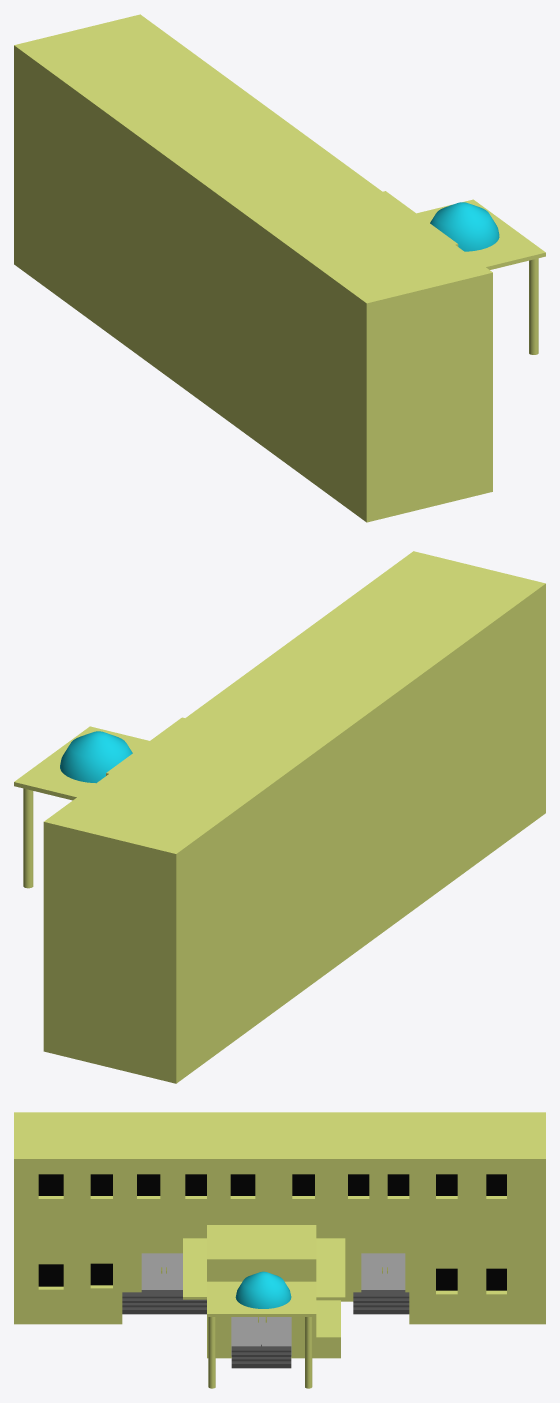
The model's file is college.glb.
3 views of the same model, one above another, from view 1: azimuth 30°, elevation 25°; view 2: azimuth 150°, elevation 25°; view 3: azimuth 270°, elevation 25° (orthographic). The views are drawn at different scales.
Visible parts, largest first — view 1: Cube, Circle; view 2: Cube, Circle; view 3: Cube, Cube.003, Circle, Cube.001, Cube.002.
Part boxes in pixels (box(x1,y1,x2,y2)): Cube: box(14, 14, 545, 522); Circle: box(430, 202, 499, 251); Cube: box(14, 551, 545, 1083); Circle: box(60, 731, 132, 783); Cube: box(14, 1112, 545, 1388); Cube.003: box(122, 1290, 206, 1314); Circle: box(235, 1271, 291, 1308); Cube.001: box(231, 1344, 291, 1368); Cube.002: box(353, 1290, 409, 1314).
Bounding box in the file's own units: 4.89 × 3.34 × 9.73.
